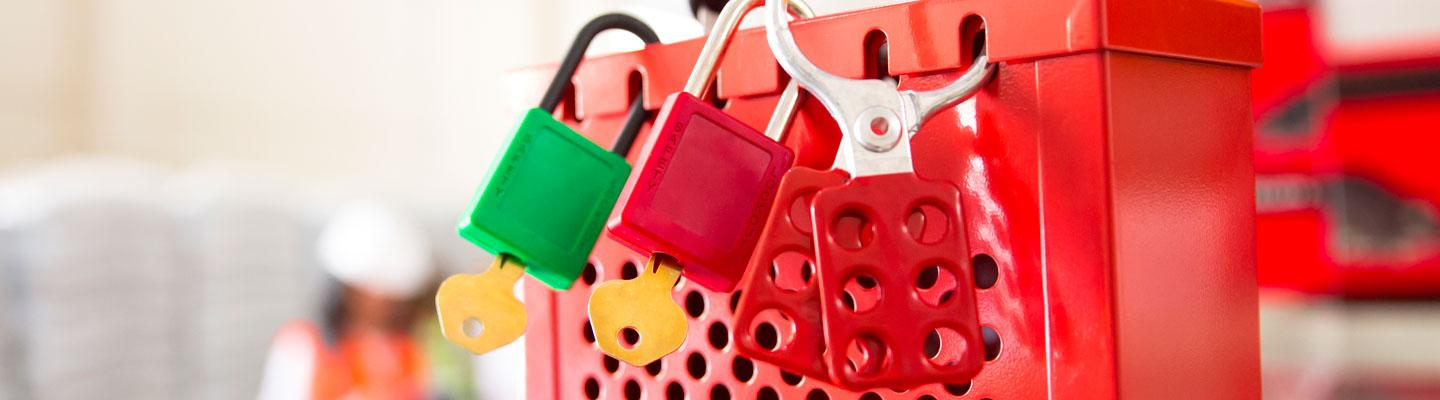hasp: (759, 1, 991, 393)
lock: (598, 1, 820, 302), (454, 15, 667, 306)
